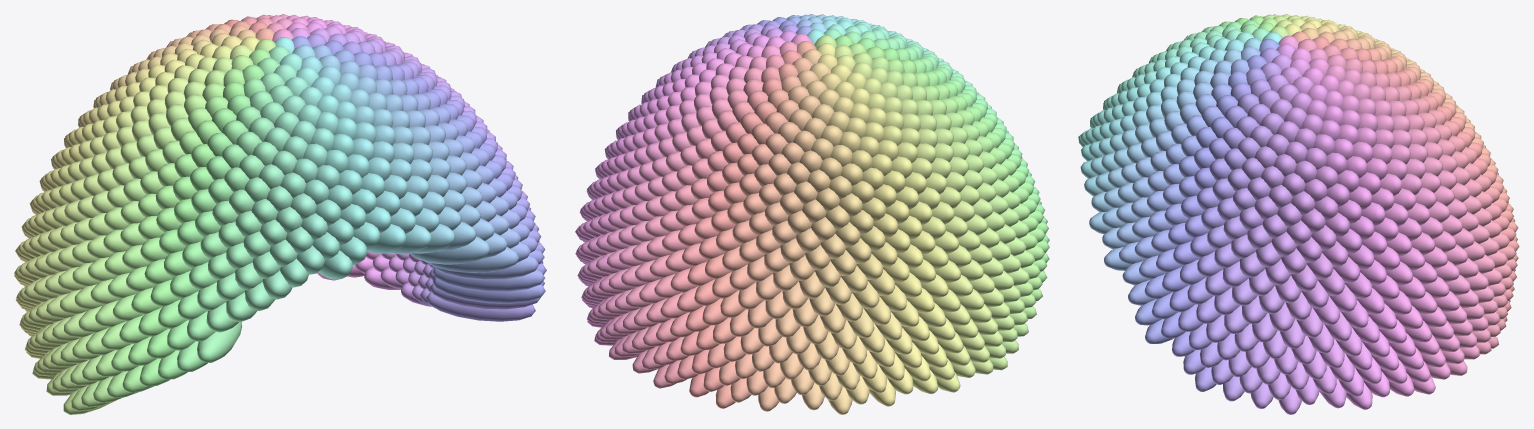
File: rainbow.glb
3 views of the same model, side by side, from view 1: azimuth 30°, elevation 25°; view 2: azimuth 150°, elevation 25°; view 3: azimuth 270°, elevation 25° (orthographic). The views are drawn at different scales.
Parts seen in each view (by area): view 1: Hair_0825, Hair_0701, Hair_0740, Hair_0540, Hair_0602, Hair_0671, Hair_0660, Hair_0791, Hair_0432, Hair_0478, Hair_0453, Hair_0473 (+43 smaller); view 2: Hair_0692, Hair_0683, Hair_0698, Hair_0677, Hair_0667, Hair_0642, Hair_0708, Hair_0651, Hair_0657, Hair_0626, Hair_0673, Hair_0616 (+9 smaller); view 3: Hair_0687, Hair_0697, Hair_0703, Hair_0672, Hair_0707, Hair_0682, Hair_0656, Hair_0691, Hair_0646, Hair_0666, Hair_0637, Hair_0678 (+61 smaller).
Boxes of the visible parts, box(x1,y1,x2,y2) form: Hair_0825: box(426, 292, 535, 321); Hair_0701: box(432, 268, 544, 291); Hair_0740: box(432, 278, 545, 303); Hair_0540: box(410, 236, 489, 264); Hair_0602: box(425, 246, 518, 272); Hair_0671: box(197, 321, 242, 362); Hair_0660: box(434, 255, 539, 280); Hair_0791: box(430, 283, 540, 309); Hair_0432: box(367, 224, 405, 253); Hair_0478: box(318, 250, 352, 279); Hair_0453: box(391, 224, 431, 254); Hair_0473: box(414, 224, 455, 253); Hair_0692: box(775, 309, 800, 337); Hair_0683: box(820, 303, 845, 333); Hair_0698: box(847, 308, 874, 337); Hair_0677: box(747, 300, 772, 328); Hair_0667: box(792, 298, 817, 327); Hair_0642: box(809, 287, 834, 316); Hair_0708: box(803, 315, 828, 344); Hair_0651: box(765, 291, 790, 319); Hair_0657: box(836, 293, 862, 321); Hair_0626: box(782, 281, 808, 309); Hair_0673: box(863, 296, 890, 325); Hair_0616: box(825, 277, 851, 304); Hair_0687: box(1296, 307, 1323, 337); Hair_0697: box(1252, 313, 1276, 342); Hair_0703: box(1324, 311, 1351, 341); Hair_0672: box(1269, 302, 1294, 331); Hair_0707: box(1206, 315, 1230, 342); Hair_0682: box(1224, 305, 1249, 333); Hair_0656: box(1242, 295, 1266, 324); Hair_0691: box(1178, 304, 1203, 331); Hair_0646: box(1286, 291, 1312, 320); Hair_0666: box(1196, 296, 1221, 323); Hair_0637: box(1329, 284, 1356, 312); Hair_0678: box(1340, 300, 1368, 328).
Size of the model in its own units: 2.71 by 1.85 by 2.5.
